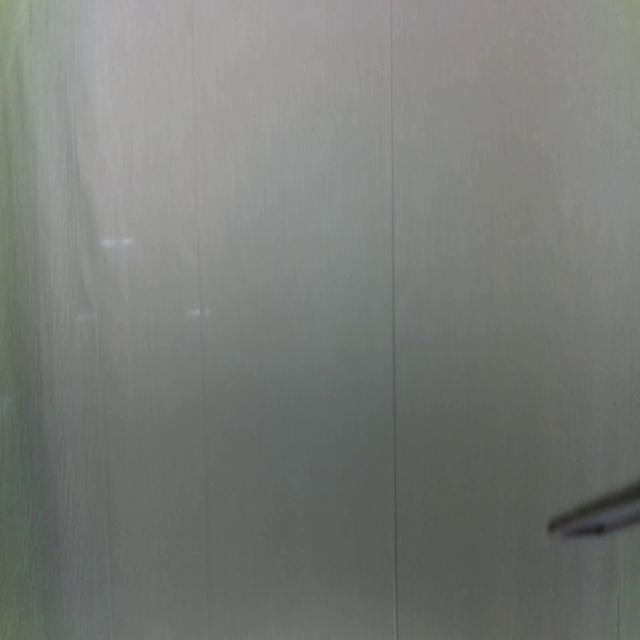crease: (190, 6, 212, 640), (389, 1, 399, 640), (93, 311, 113, 622)
